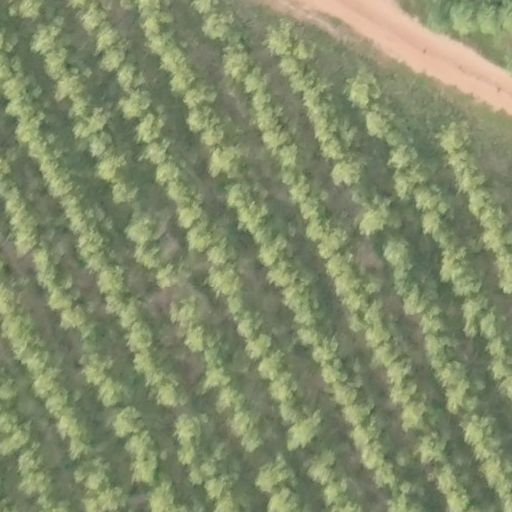eucalipto: (359, 193, 407, 237), (442, 248, 484, 296), (121, 207, 172, 242), (314, 119, 357, 157), (284, 414, 325, 452), (40, 154, 75, 198), (207, 145, 248, 182), (435, 118, 477, 154), (464, 301, 501, 341), (256, 455, 298, 490), (255, 230, 292, 268), (150, 258, 190, 292), (346, 72, 385, 106), (448, 154, 485, 189), (315, 226, 350, 262), (221, 43, 255, 80), (230, 414, 264, 451), (134, 354, 174, 385), (119, 89, 155, 123), (46, 279, 82, 313), (303, 92, 336, 129), (107, 296, 146, 327), (29, 366, 63, 401), (197, 12, 236, 42), (111, 406, 145, 440), (445, 383, 481, 415), (30, 22, 66, 54), (206, 267, 243, 298), (303, 451, 340, 482), (329, 158, 367, 188), (233, 309, 267, 342), (33, 249, 64, 285), (169, 297, 208, 325), (464, 189, 503, 217), (383, 379, 419, 409), (415, 432, 451, 462), (1, 314, 38, 343), (243, 336, 275, 369), (382, 237, 415, 269), (366, 109, 400, 140), (72, 464, 111, 491), (348, 422, 385, 450), (73, 233, 110, 261), (92, 23, 123, 56), (94, 152, 128, 182), (327, 379, 362, 408), (281, 284, 316, 313), (385, 142, 420, 171), (14, 217, 42, 253), (462, 414, 498, 442), (119, 432, 159, 457), (71, 108, 108, 135), (359, 443, 391, 474), (315, 359, 348, 389), (182, 104, 217, 132), (203, 473, 240, 499), (134, 115, 166, 145), (260, 351, 290, 383), (181, 327, 221, 351), (400, 402, 433, 431), (154, 382, 188, 410), (404, 289, 435, 319), (66, 435, 97, 465), (126, 323, 155, 355), (226, 181, 259, 209), (95, 267, 128, 295), (343, 402, 378, 428), (319, 481, 354, 507), (267, 27, 297, 57), (131, 452, 161, 482), (1, 413, 30, 444), (287, 65, 319, 93), (177, 416, 209, 444), (215, 386, 248, 413), (17, 473, 54, 497), (43, 48, 69, 82), (311, 335, 340, 365), (154, 161, 185, 189), (61, 302, 93, 329), (118, 63, 147, 92), (110, 178, 139, 207), (97, 378, 128, 405), (47, 387, 72, 420), (306, 214, 334, 243), (16, 448, 45, 476), (416, 182, 445, 210), (364, 320, 392, 348), (82, 4, 109, 33), (206, 241, 235, 268), (168, 70, 200, 94), (88, 130, 116, 157), (298, 192, 325, 220), (437, 466, 466, 492), (84, 357, 114, 382), (27, 133, 59, 156), (176, 202, 204, 228), (263, 126, 292, 151), (386, 356, 415, 381), (160, 49, 189, 74), (328, 254, 359, 277), (100, 47, 128, 72), (279, 400, 307, 425), (244, 70, 268, 96), (200, 126, 226, 148), (424, 209, 445, 234), (70, 211, 93, 232)
